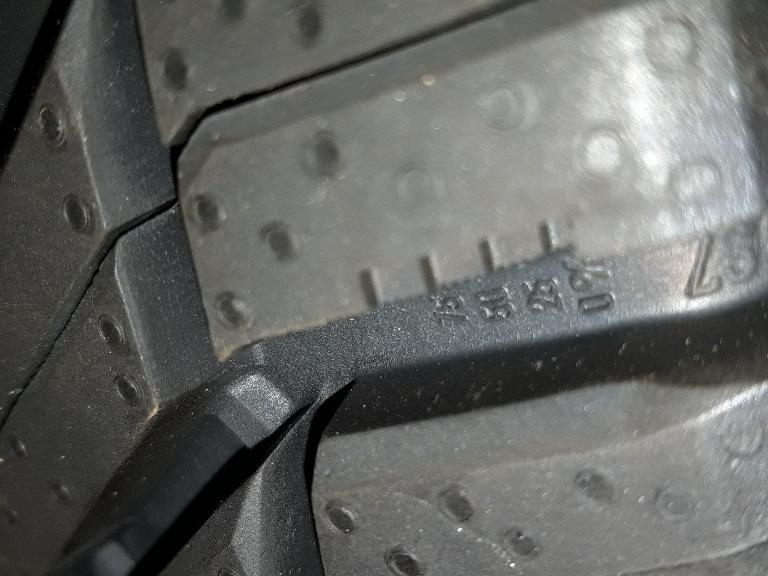temoin:100: (340, 215, 599, 324)
